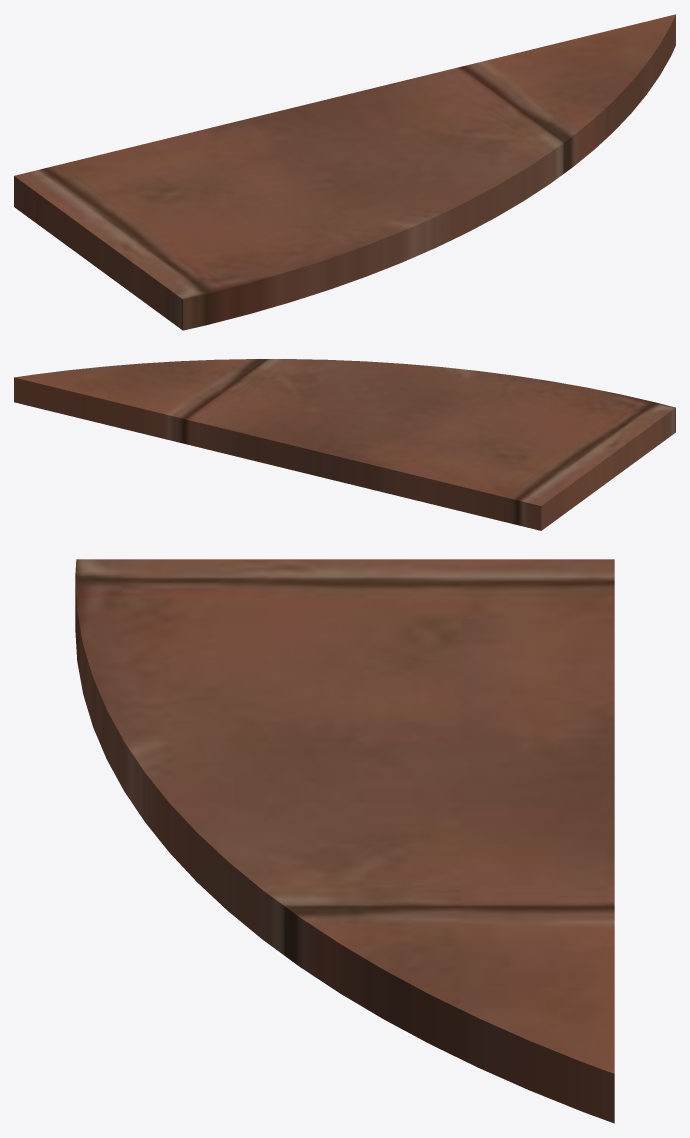
Rendered from Tile_Break6.FBX.
The picture shows the model from 3 angles, top to bottom: view 1: azimuth 30°, elevation 25°; view 2: azimuth 150°, elevation 25°; view 3: azimuth 270°, elevation 25°; orthographic projection. The views are drawn at different scales.
Visible parts, largest first — view 1: Piso85; view 2: Piso85; view 3: Piso85.
Boxes of the visible parts, <box> form: Piso85: <box>14,14,675,330</box>; Piso85: <box>14,359,675,530</box>; Piso85: <box>75,559,614,1123</box>.
Size of the model in its own units: 111 by 5 by 49.28.
1 material, 1 textured.
